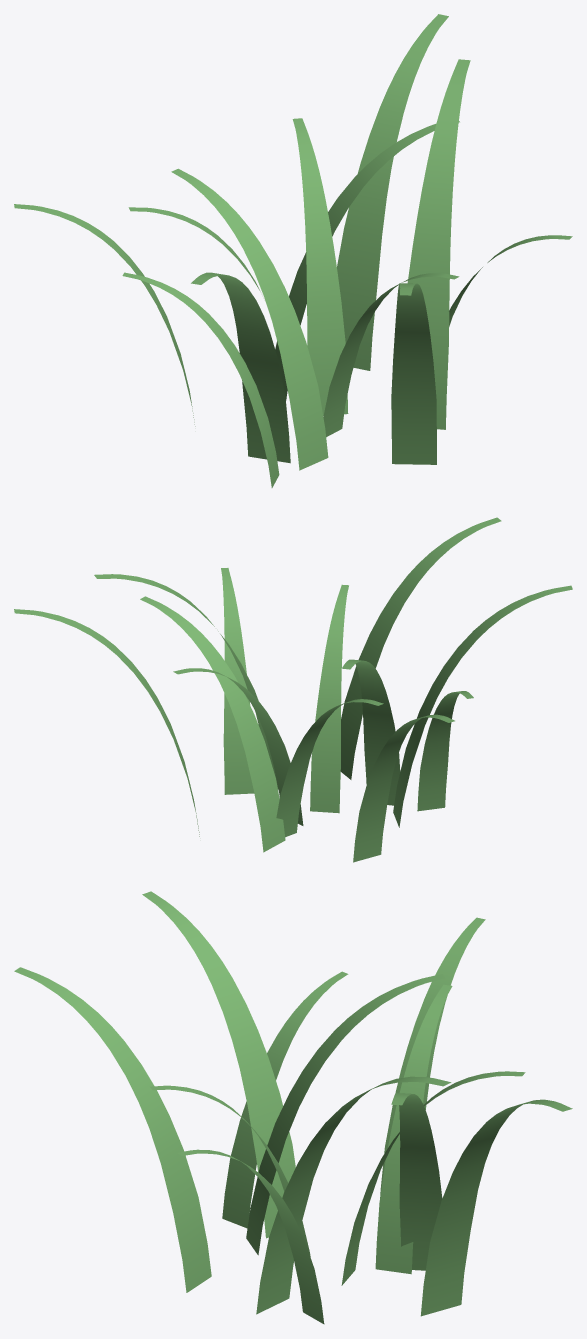
File: grass_tuft_01.fbx
3 renders of one model, top to bottom at view 1: azimuth 30°, elevation 25°; view 2: azimuth 150°, elevation 25°; view 3: azimuth 270°, elevation 25°, orthographic. The views are drawn at different scales.
Parts seen in each view (by area): view 1: Grass1; view 2: Grass1; view 3: Grass1.
Boxes of the visible parts, box(x1,y1,x2,y2) form: Grass1: box(14, 14, 572, 487); Grass1: box(14, 517, 572, 862); Grass1: box(14, 891, 572, 1324).
Size of the model in its own units: 67.03 by 37.16 by 65.59.
